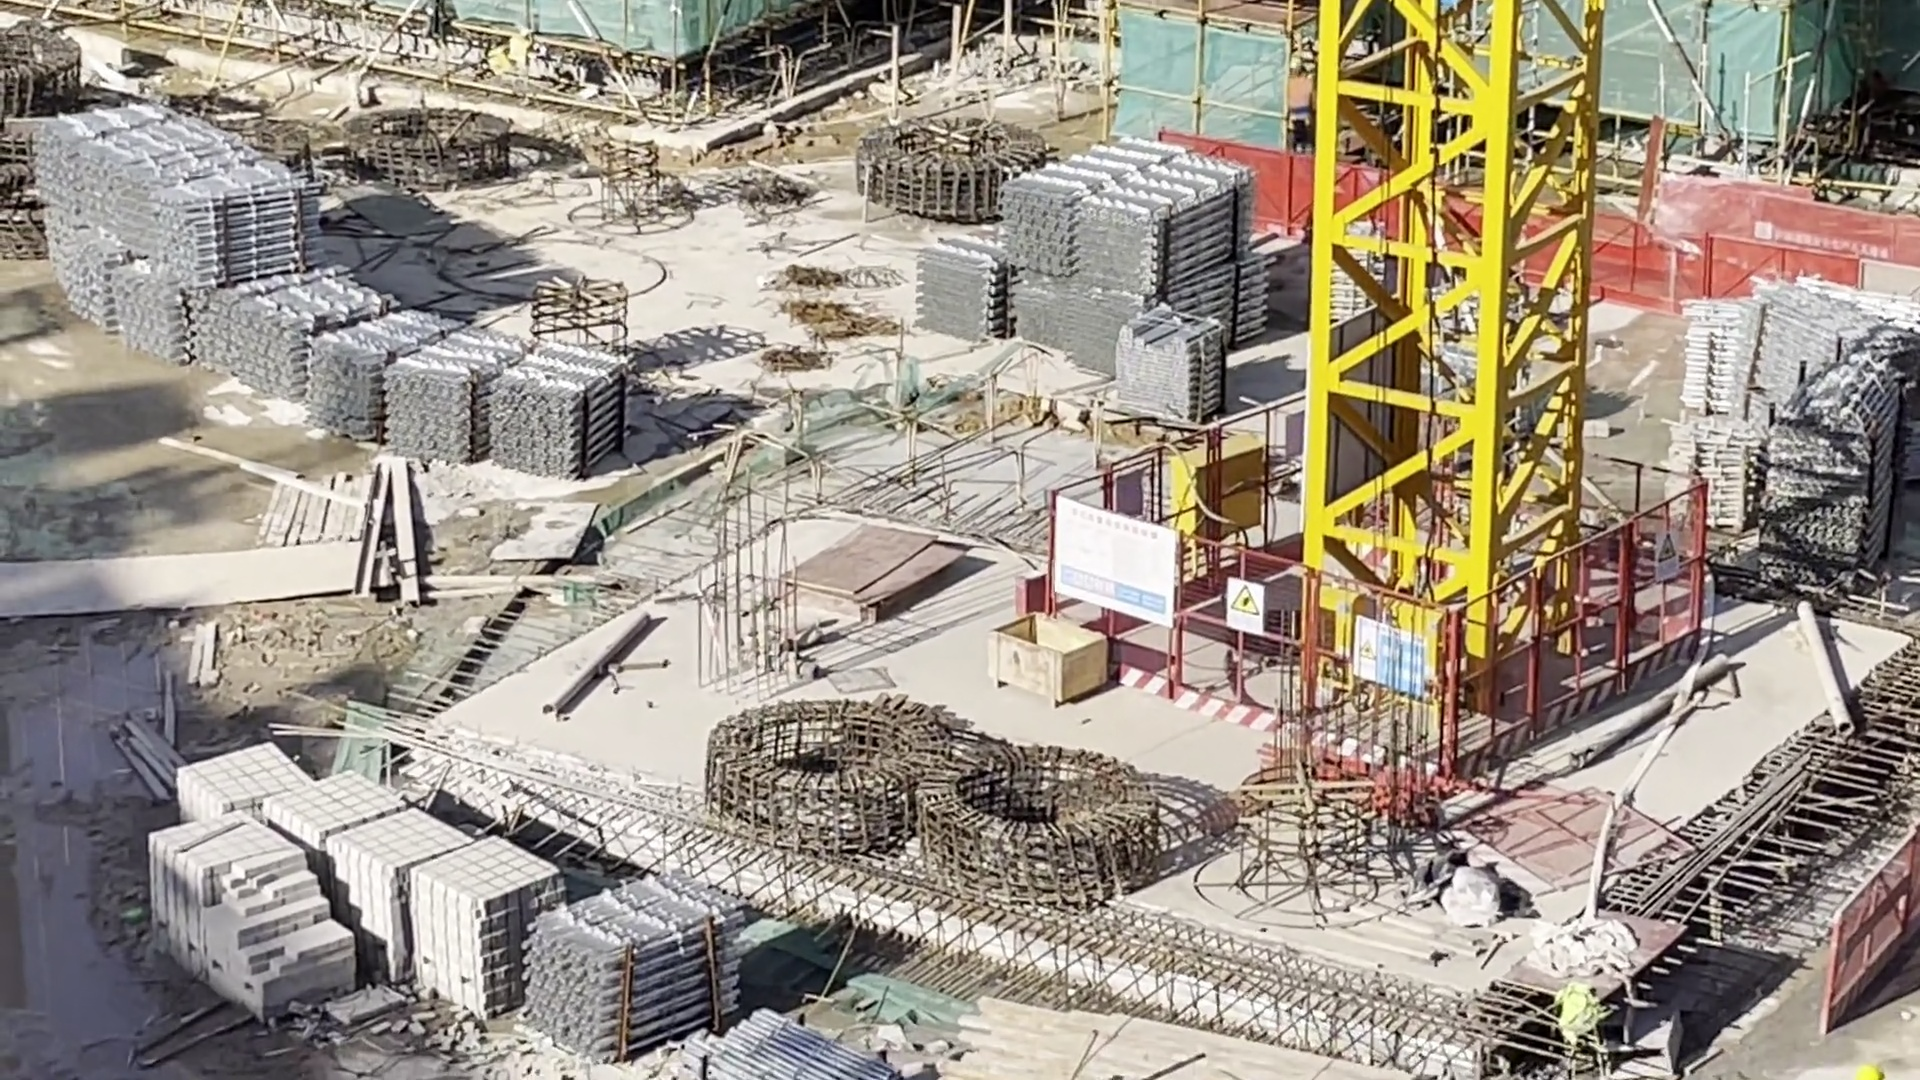board: (790, 531, 953, 616)
brick: (165, 756, 543, 1001)
ebox: (1174, 438, 1262, 549)
fence: (1602, 191, 1920, 295), (1838, 818, 1920, 1021)
scaffold: (36, 108, 301, 363), (997, 138, 1262, 365), (1677, 297, 1894, 566), (535, 885, 738, 1058), (394, 326, 625, 473), (229, 274, 385, 400), (313, 315, 456, 448), (686, 1015, 897, 1080), (1117, 309, 1222, 419), (916, 224, 1017, 338)
slogan: (1361, 618, 1424, 699), (1222, 579, 1261, 634), (1654, 531, 1679, 579)
wood: (944, 1000, 1408, 1080)
